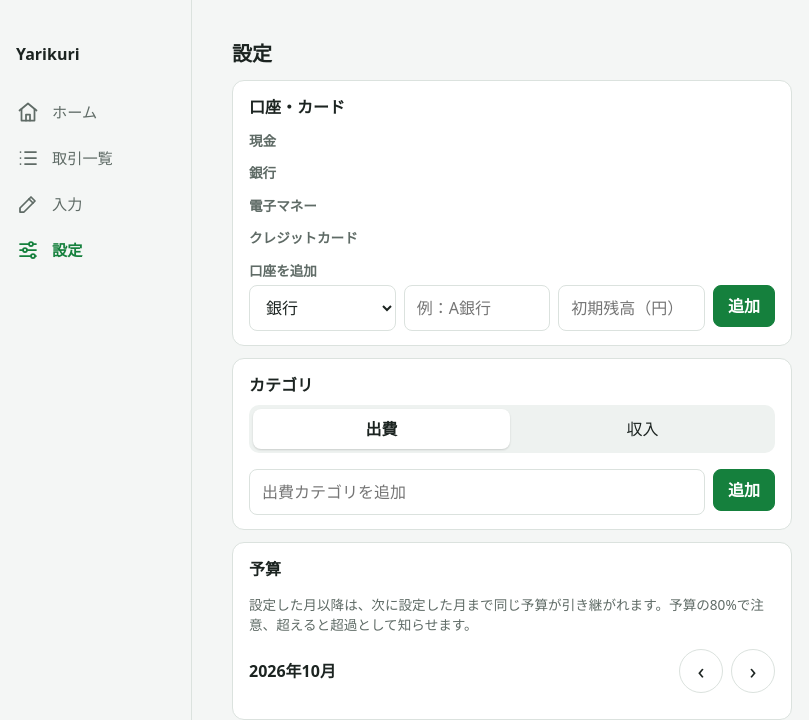
Test case: 口座管理 › 不正な初期残高は登録できない
Type "A銀行" into the field named "口座名".
click(477, 308); type("A銀行")  # box x1=404 y1=285 x2=550 y2=331
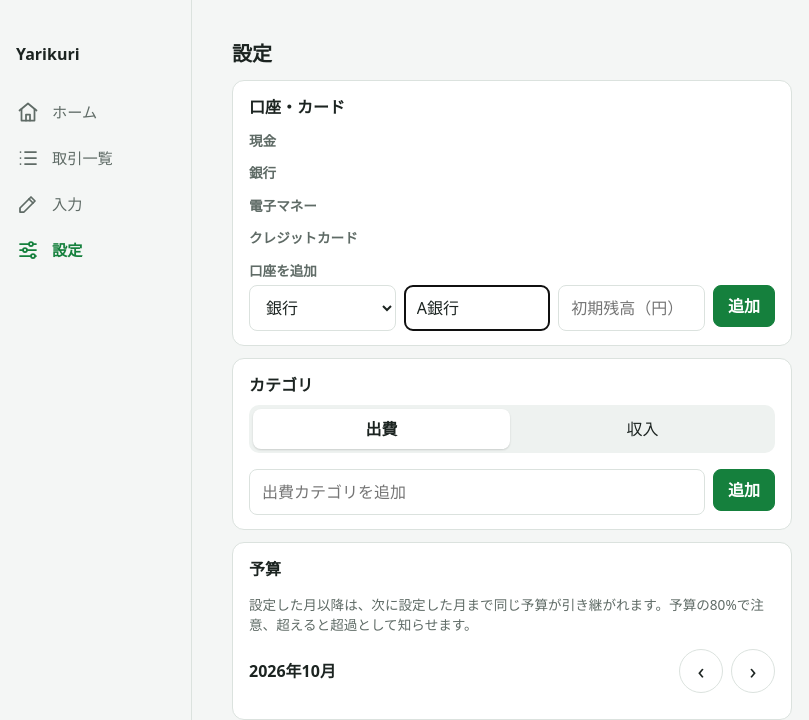
Type "-100" into the field labelled "初期残高".
click(632, 308); type("-100")  # box x1=558 y1=285 x2=705 y2=331
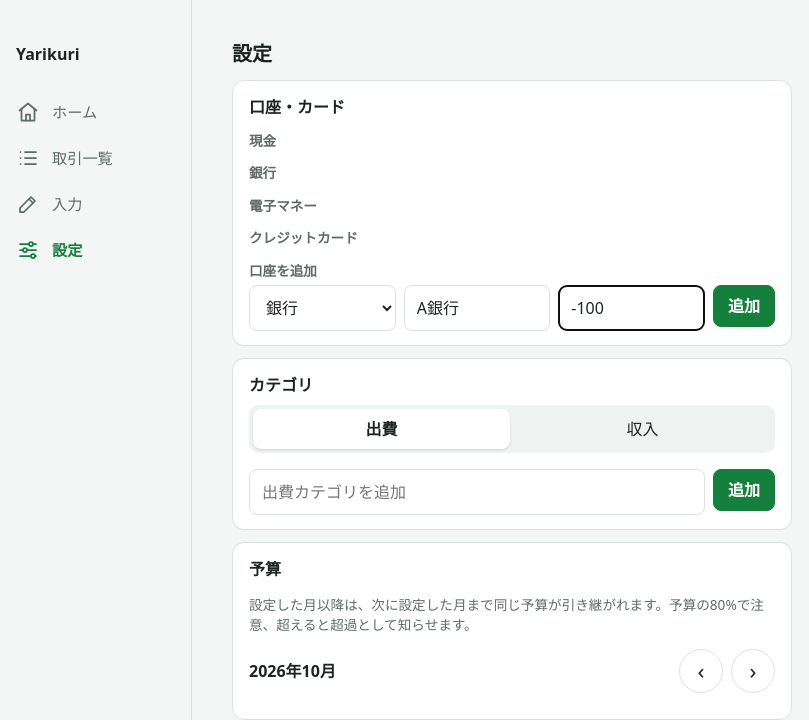
Click the 1st button "追加".
click(744, 306)  # box x1=713 y1=285 x2=775 y2=327
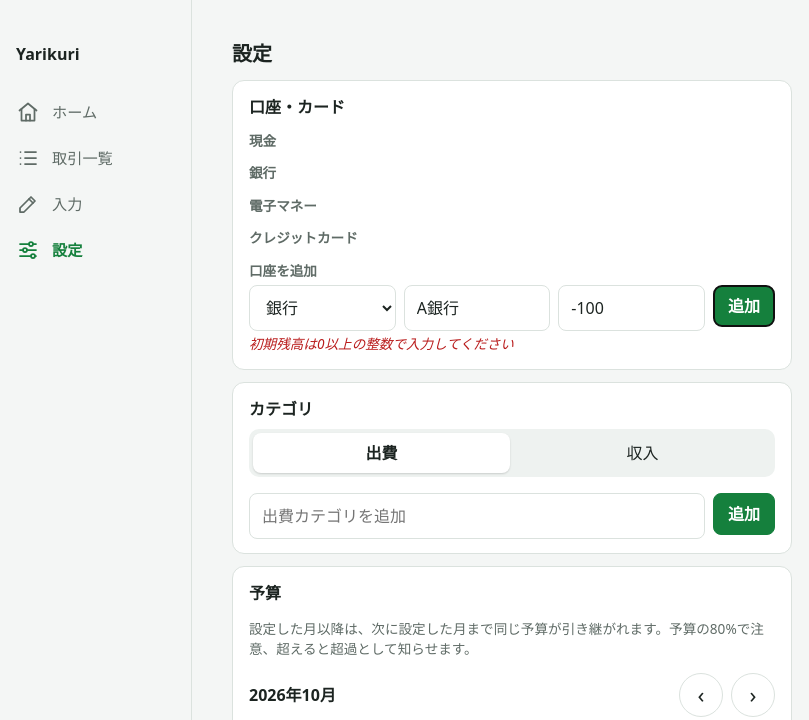
Check: the message shows "初期残高は0以上の整数", box x1=249 y1=334 x2=514 y2=353
